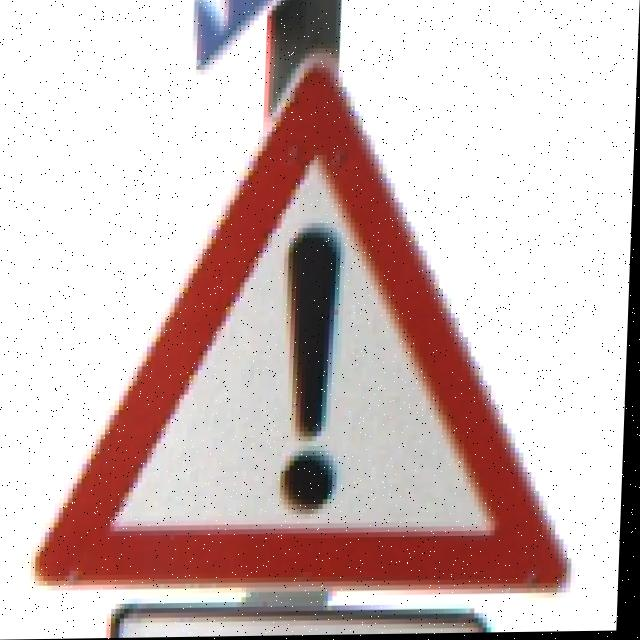warning: (51, 95, 587, 612)
